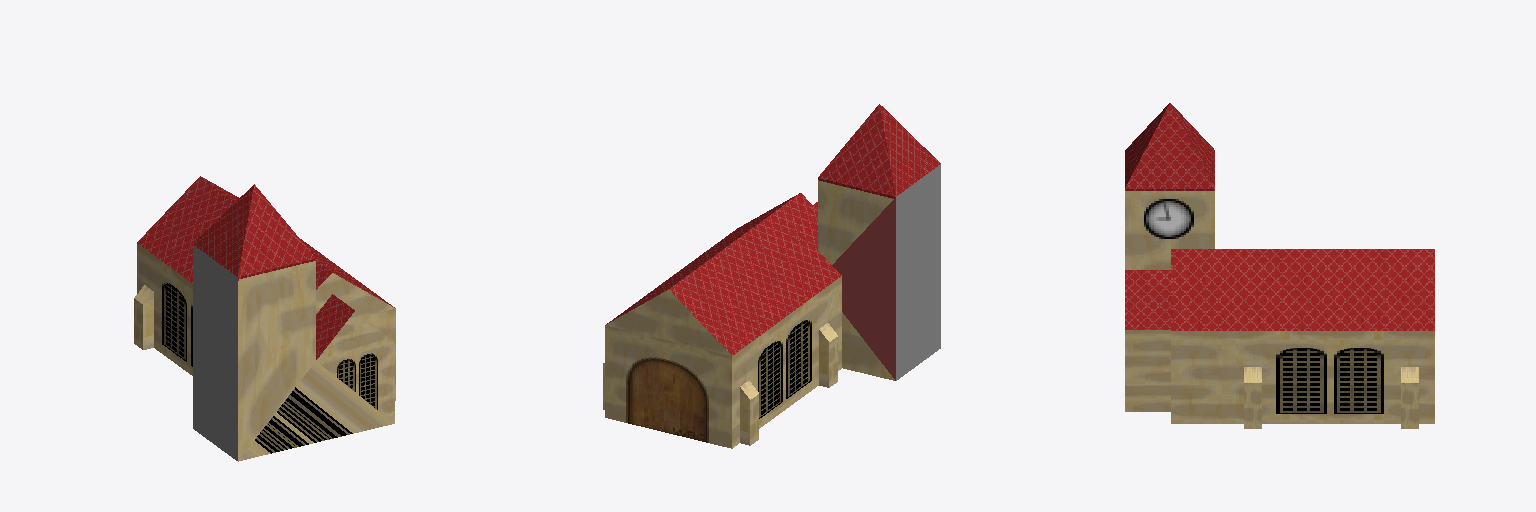
3 views of the same model, side by side, from view 1: azimuth 30°, elevation 25°; view 2: azimuth 150°, elevation 25°; view 3: azimuth 270°, elevation 25° (orthographic).
Parts seen in each view (by area): view 1: mesh01, mesh03; view 2: mesh01, mesh03, mesh02; view 3: mesh01, mesh02, mesh03.
Part boxes in pixels (bbox=[...]): mesh01: bbox=[137, 176, 395, 461]; mesh03: bbox=[134, 285, 153, 349]; mesh01: bbox=[605, 104, 940, 448]; mesh03: bbox=[603, 363, 758, 445]; mesh02: bbox=[819, 323, 837, 387]; mesh01: bbox=[1125, 103, 1434, 423]; mesh02: bbox=[1244, 367, 1261, 428]; mesh03: bbox=[1401, 367, 1418, 428].
Bounding box in the file's own units: 24.44 × 30.74 × 34.27.
1 materials, 1 textured.